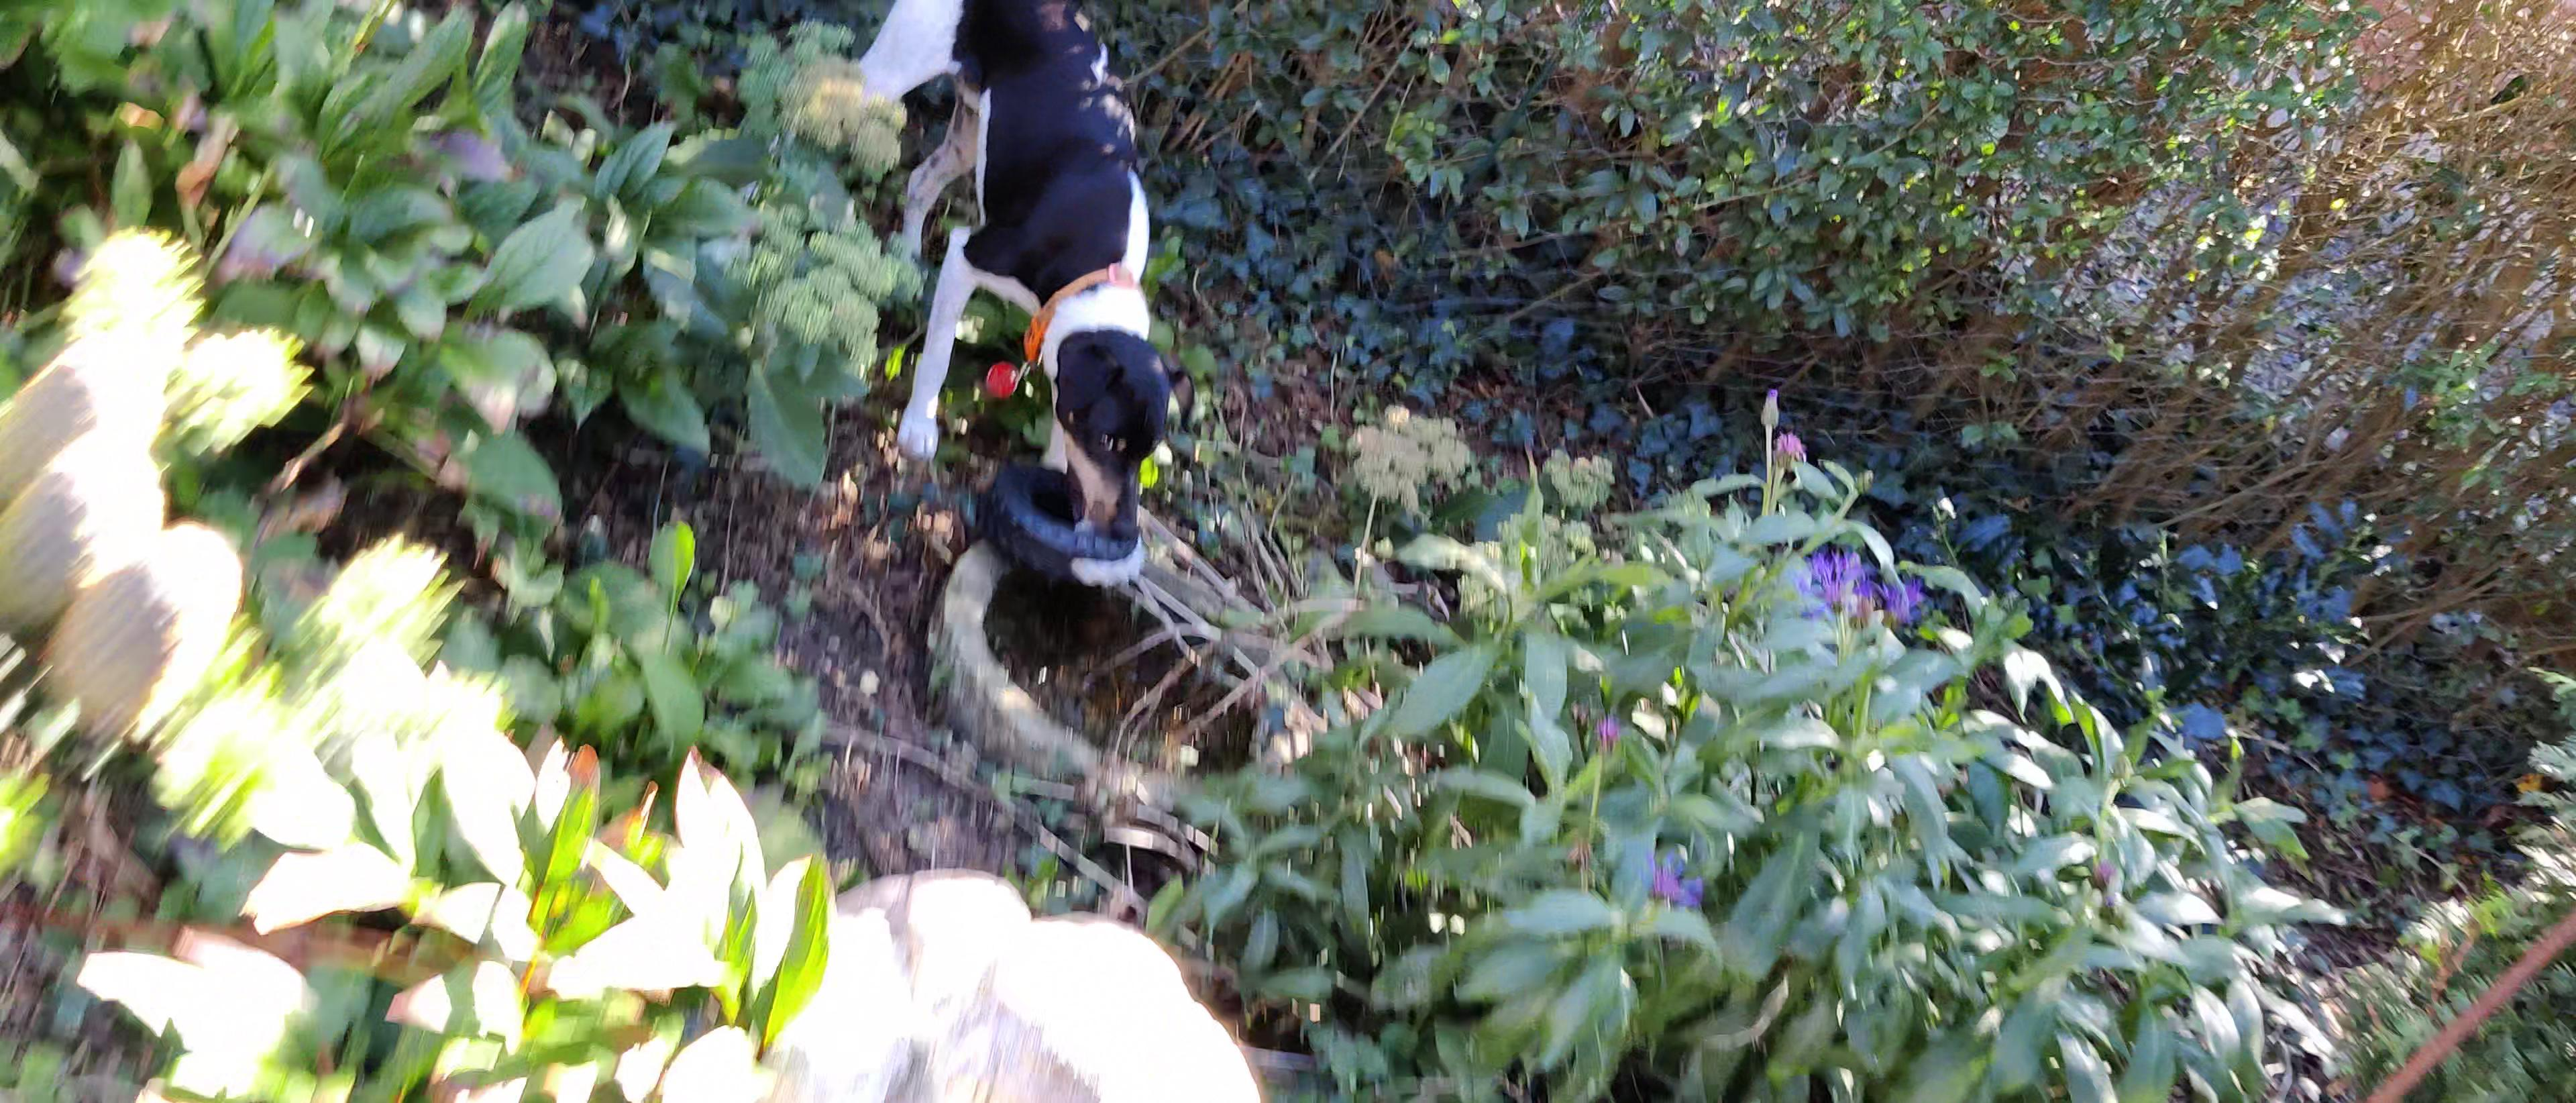Dog: (844, 0, 1204, 541)
